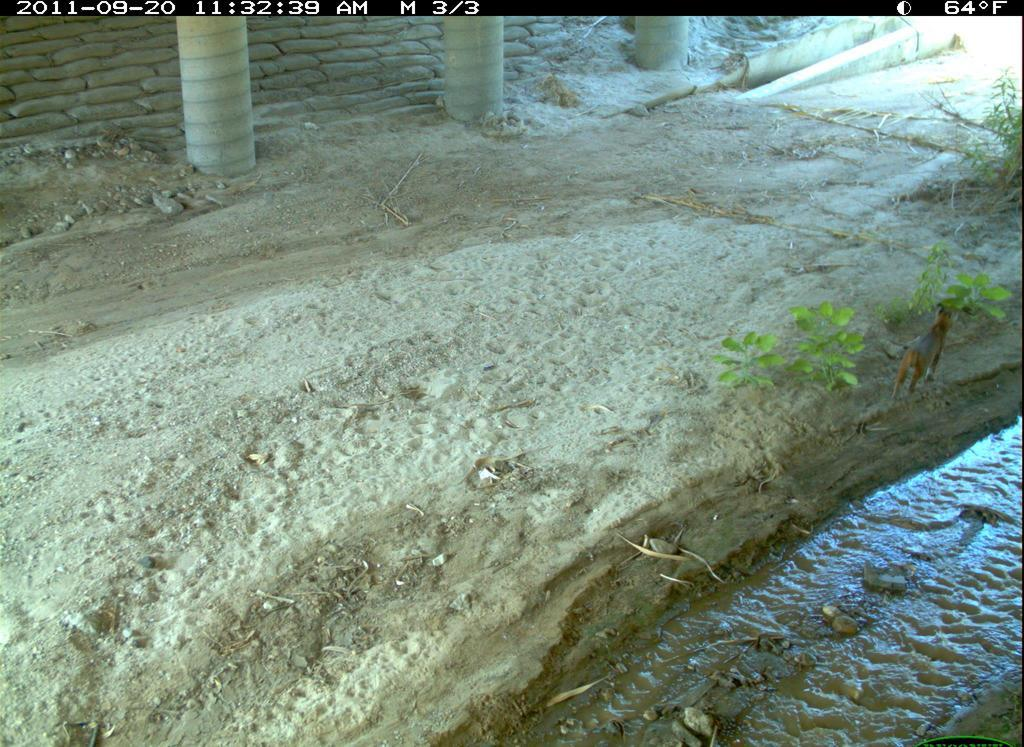bobcat: (881, 300, 971, 413)
